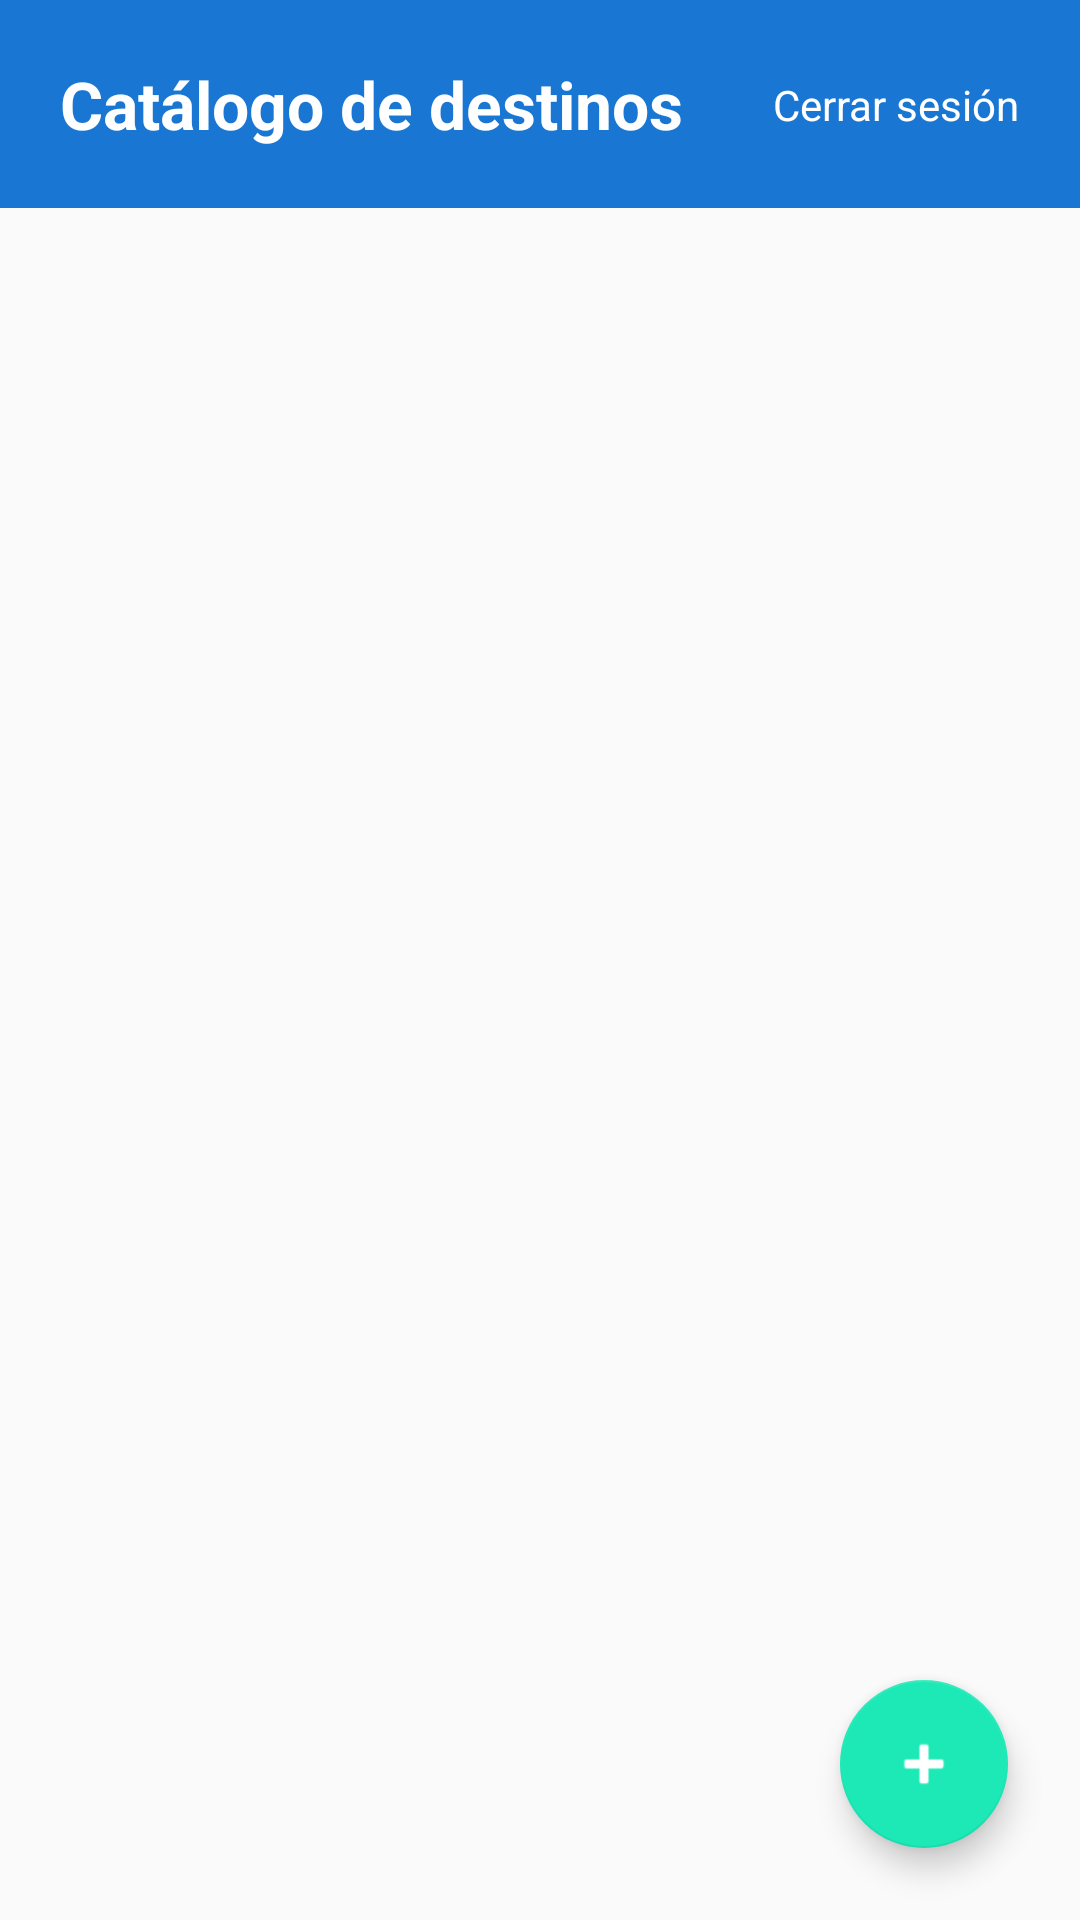

Where to tap for icons on this 1080 × 1920 app screen, as (x=x, y=y):
Agregar nuevo destino: (x=924, y=1764)
